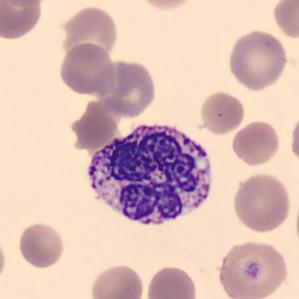Neutrophil: (80, 116, 219, 236)
Platelets: (240, 254, 265, 282)
RBC: (215, 238, 290, 299), (225, 28, 290, 92), (230, 171, 292, 234), (94, 58, 158, 118), (59, 4, 120, 61), (57, 41, 117, 96), (66, 100, 120, 151), (229, 119, 283, 167), (15, 221, 66, 269), (197, 89, 246, 136), (88, 261, 146, 299), (144, 263, 199, 299), (0, 0, 45, 41), (270, 0, 299, 41), (133, 0, 198, 12), (288, 109, 299, 167), (293, 186, 299, 257), (0, 233, 7, 287), (0, 0, 48, 7)
